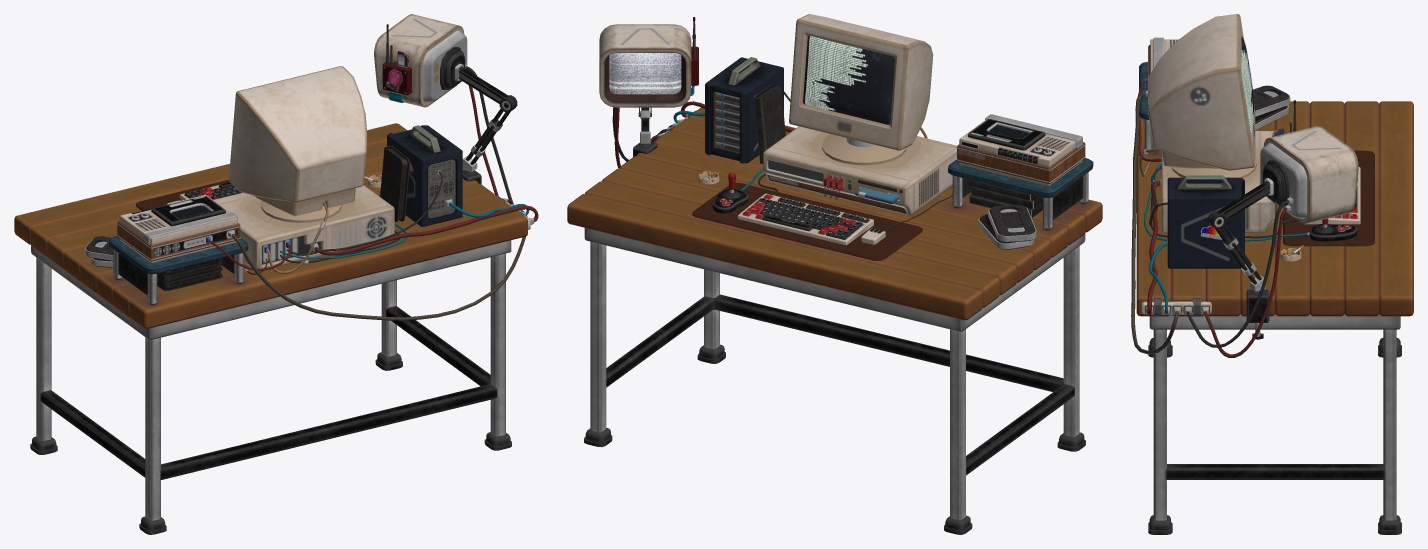
The model's file is hacker-room.glb.
3 views of the same model, side by side, from view 1: azimuth 30°, elevation 25°; view 2: azimuth 150°, elevation 25°; view 3: azimuth 270°, elevation 25° (orthographic). The views are drawn at different scales.
Visible parts, largest first — view 1: table, computer, Tv, Cables, vhs, server, props, shelf, arm, peripherals; view 2: table, computer, screen, vhs, server, props, Tv, peripherals, screen_glass, keyboard_mat, shelf, Cables (+1 smaller); view 3: table, computer, Tv, server, Cables, arm, keyboard_mat, props, peripherals, shelf, screen, vhs (+1 smaller).
Part boxes in pixels (<box>): table: <box>14,123,527,534</box>; computer: <box>213,66,394,270</box>; Tv: <box>374,14,467,107</box>; Cables: <box>206,64,538,320</box>; vhs: <box>117,194,240,262</box>; server: <box>387,125,462,226</box>; props: <box>85,146,409,290</box>; shelf: <box>109,236,248,305</box>; arm: <box>440,47,517,184</box>; peripherals: <box>167,182,241,204</box>; table: <box>567,107,1102,534</box>; computer: <box>763,14,956,215</box>; screen: <box>609,36,894,124</box>; vhs: <box>956,114,1085,185</box>; server: <box>705,57,783,163</box>; props: <box>698,85,1042,249</box>; Tv: <box>599,17,698,107</box>; peripherals: <box>712,172,885,245</box>; screen_glass: <box>609,36,1029,231</box>; keyboard_mat: <box>692,182,922,260</box>; shelf: <box>948,158,1093,230</box>; Cables: <box>612,91,952,230</box>; table: <box>1136,101,1413,534</box>; computer: <box>1148,14,1274,233</box>; Tv: <box>1260,100,1358,223</box>; server: <box>1167,175,1244,268</box>; Cables: <box>1131,78,1309,357</box>; arm: <box>1207,160,1289,339</box>; keyboard_mat: <box>1283,150,1374,246</box>; props: <box>1253,85,1303,261</box>; peripherals: <box>1304,167,1360,241</box>; shelf: <box>1139,62,1153,152</box>; screen: <box>1241,36,1254,134</box>; vhs: <box>1148,37,1178,104</box>.
Size of the model in its own units: 134 by 119 by 75.44.
Materials: 13 (13 with a texture image).
